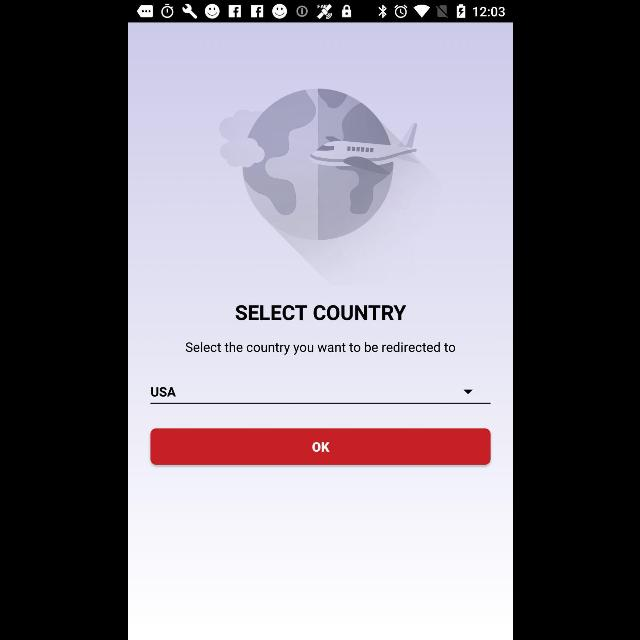icon: (463, 390, 472, 394)
image: (218, 88, 422, 242)
input: (150, 386, 490, 404)
text: (185, 342, 455, 354), (234, 305, 406, 321), (150, 387, 176, 397)
textbutton: (150, 428, 490, 466)
uppertaskbar: (128, 1, 512, 23)
